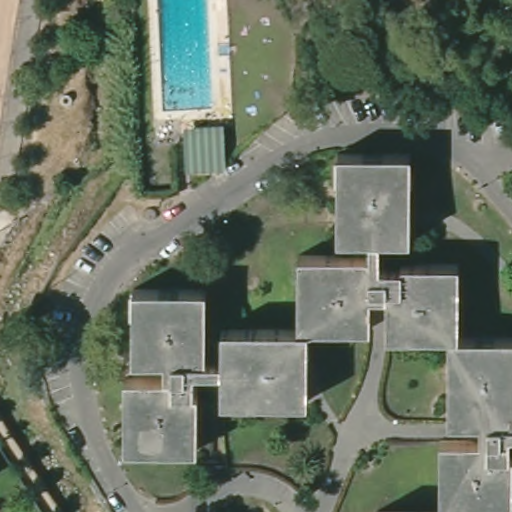pool: (150, 1, 220, 114)
